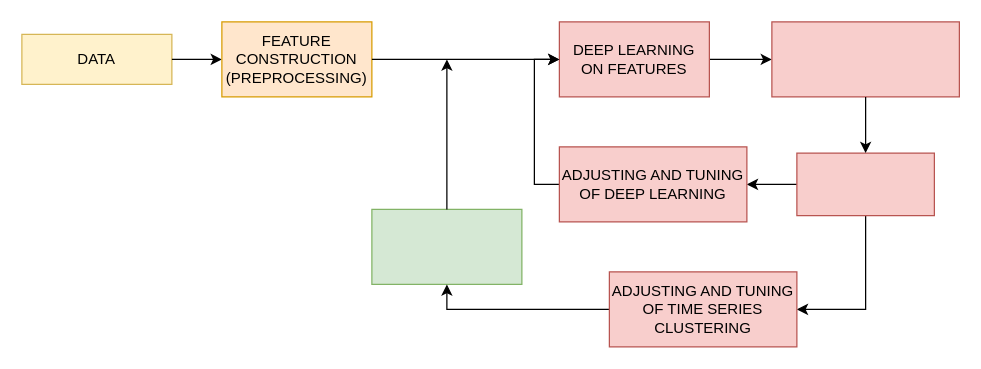
The diagram is 981 pixels wide and 369 high, and some of its shapes have lost their labels. Each missing label, with the centre of its shape:
"EVALUATION OF PREDICTION" goes at (x=865, y=184).
"PREDICITON OF EV CHARGING TIME AND CONNECTION TIME" goes at (x=865, y=59).
"TIME SERIES CLUSTERING (EXTRA FEATURE)" goes at (x=446, y=246).
